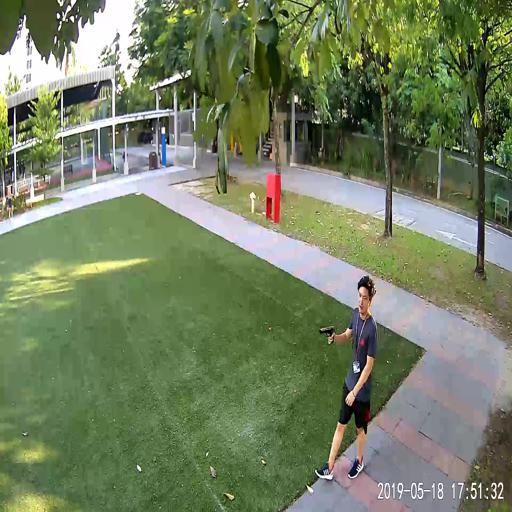Handgun: (318, 323, 333, 343)
